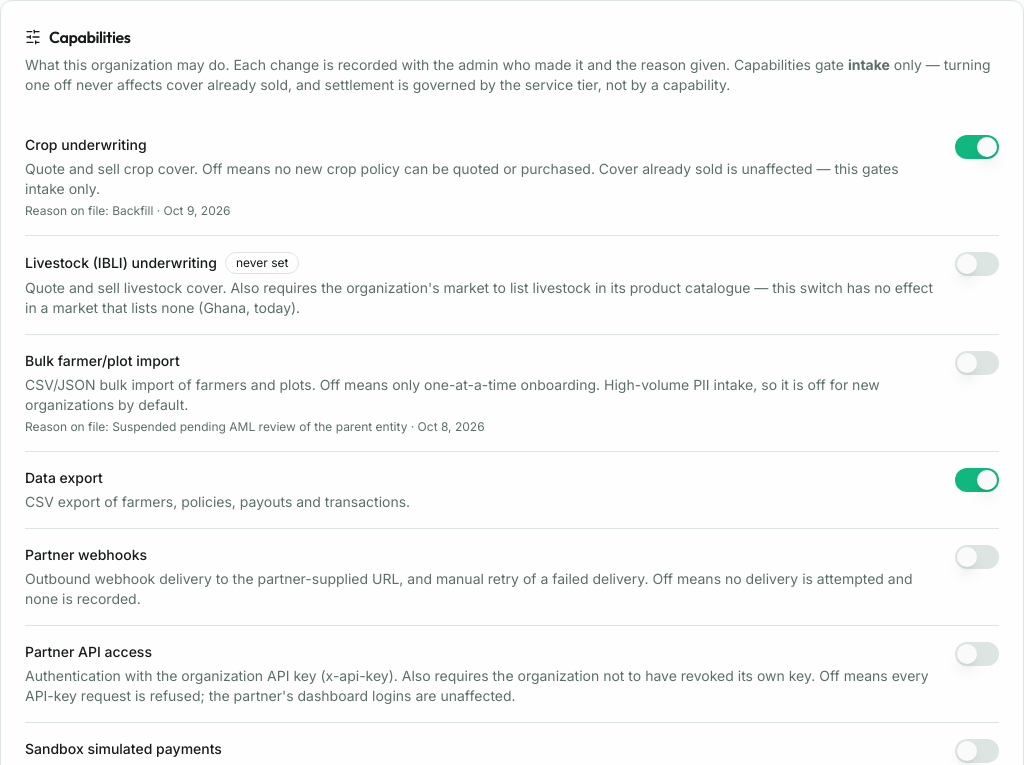
Test: flipping a capability › warns that disabling stops intake but not cover already sold
Click the switch named "Crop underwriting" in the row of "Crop underwriting".
click(977, 147)  # box x1=955 y1=135 x2=999 y2=159
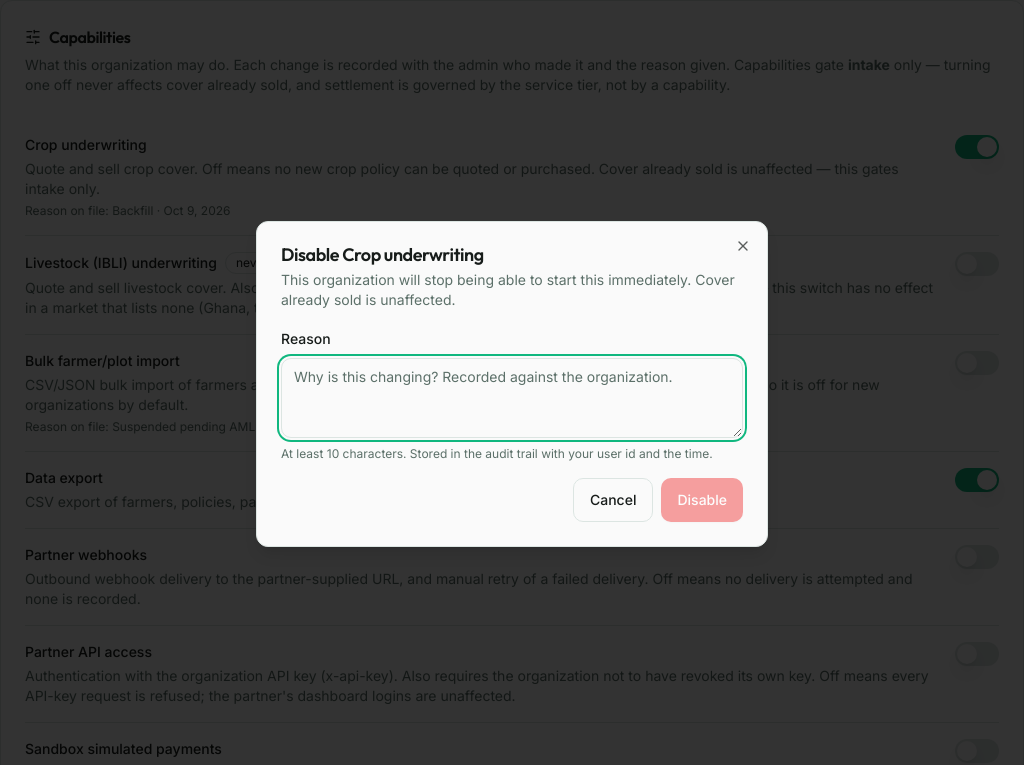
Check: the dialog shows "cover already sold is unaffected", box x1=281 y1=271 x2=735 y2=308
Check: the button "Disable" is shown, box x1=662 y1=478 x2=743 y2=522
